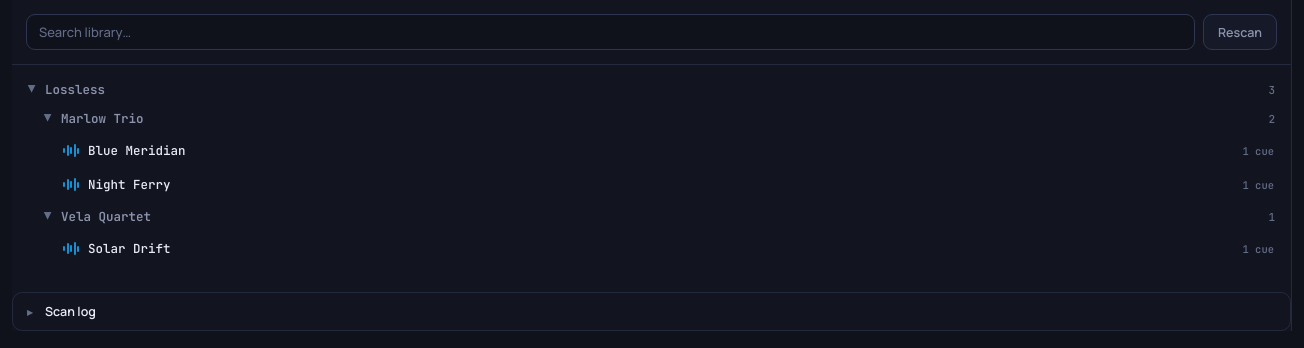
Test: Sidebar search › is case-insensitive and ignores surrounding whitespace
In the field labelled "Search library": (610, 32) [26,14,1195,50], type "  FERRY  "
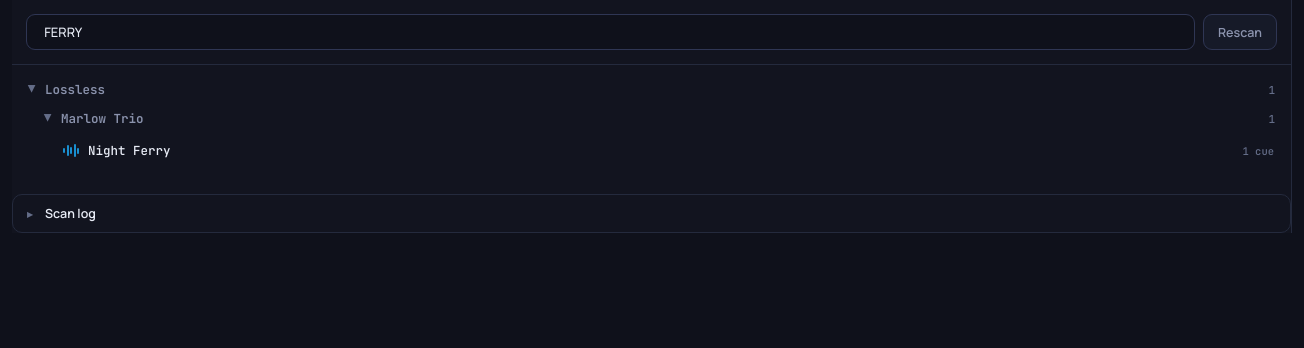
Expected: the text "Night Ferry" is shown, [88,142,170,159]
Expected: the link "Blue Meridian" is gone
